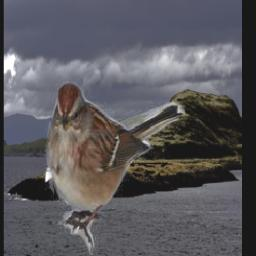Sparrow: (46, 75, 186, 255)
